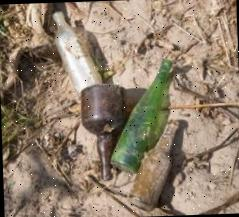glass: (108, 57, 177, 176), (51, 10, 106, 102), (80, 83, 128, 180)
